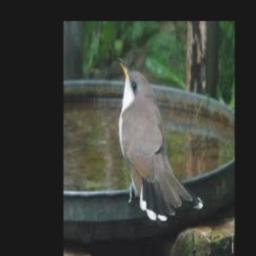Cuckoo: (116, 57, 203, 221)
